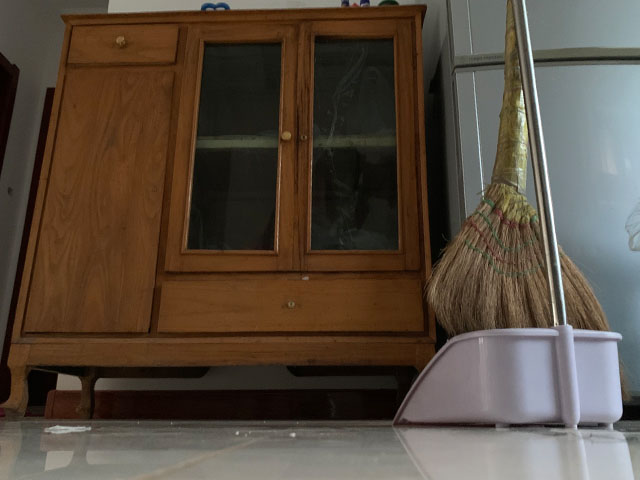cabinet: (1, 2, 438, 421)
